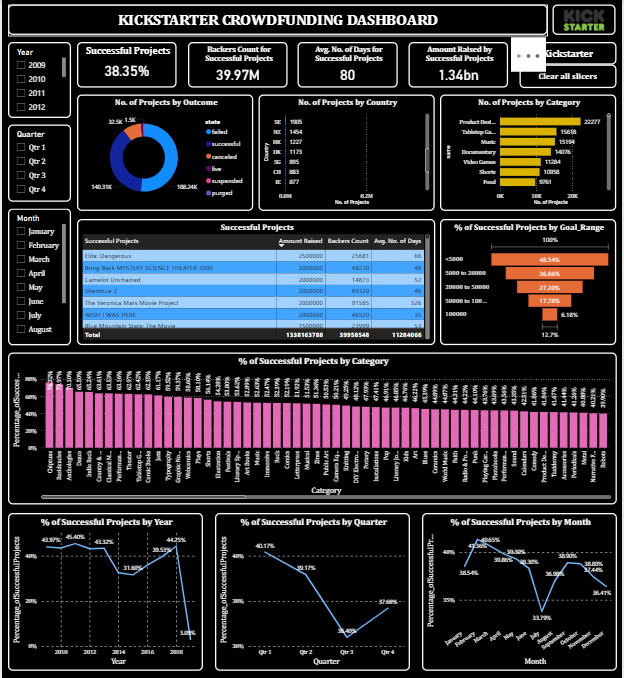

What the dashboard file says about the page in this screenshot:
{"tool":"powerbi","page":{"name":"Dashboard","canvas":[1280,1400],"ordinal":0},"visuals":[{"type":"textbox","box":[11.4,10,1112.9,62.9],"z":0},{"type":"slicer","fields":{"Values":["Calendar.Date.Variation.Date Hierarchy.Year"]},"box":[11.4,86.9,129.7,156.8],"z":1000},{"type":"slicer","fields":{"Values":["Calendar.Date.Variation.Date Hierarchy.Quarter"]},"box":[11.4,256.6,129.7,159.6],"z":2000},{"type":"card","title":"Avg. No. of Days for Successful Projects","fields":{"Values":["Avg(Project.No_Days_for_completion)"]},"box":[608.6,86.9,206.7,94.1],"z":3000},{"type":"card","title":"Backers Count for Successful Projects","fields":{"Values":["Sum(Project.backers_count)"]},"box":[382,86.9,205.3,94.1],"z":4000},{"type":"card","title":"Amount Raised by Successful Projects","fields":{"Values":["Sum(Project.Static usd)"]},"box":[838.1,86.9,205.3,94.1],"z":5000},{"type":"donutChart","title":"No. of Projects by Outcome","fields":{"Category":["Project.state"],"Y":["CountNonNull(Project.id)"]},"box":[153.3,195,363.3,240],"z":6000},{"type":"clusteredBarChart","title":"No. of Projects by Country","fields":{"Y":["CountNonNull(Project.id)"],"Category":["Project.country"]},"box":[528.3,195,363.3,240],"z":7000},{"type":"clusteredBarChart","title":"No. of Projects by Category","fields":{"Y":["CountNonNull(Project.id)"],"Category":["Category.name"]},"box":[903.3,195,363.3,240],"z":8000},{"type":"slicer","fields":{"Values":["Calendar.Date.Variation.Date Hierarchy.Month"]},"box":[11.7,430,130,281.7],"z":9000},{"type":"card","title":"Successful Projects","fields":{"Values":["Project.Percentage_ofSuccessfulProjects"]},"box":[153.9,86.9,205.3,94.1],"z":10000},{"type":"actionButton","box":[1066.7,133.3,200,48.3],"z":11000},{"type":"tableEx","title":"Successful Projects","fields":{"Values":["Project.name","Sum(Project.Static usd)","Sum(Project.backers_count)","Sum(Project.No_Days_for_completion)"]},"box":[153.3,451.7,738.3,260],"z":12000},{"type":"funnel","title":"% of Successful Projects by Goal_Range","fields":{"Category":["Project.Goal_Range"],"Y":["Project.Percentage_ofSuccessfulProjects"]},"box":[903.3,451.7,363.3,260],"z":13000},{"type":"columnChart","title":"% of Successful Projects by Category","fields":{"Category":["Category.name"],"Y":["Project.Percentage_ofSuccessfulProjects"]},"box":[11.7,728.3,1255,313.3],"z":14000},{"type":"lineChart","title":"% of Successful Projects by Year","fields":{"Category":["Calendar.Date.Variation.Date Hierarchy.Year"],"Y":["Project.Percentage_ofSuccessfulProjects"]},"box":[11.7,1058.3,401.7,325],"z":15000},{"type":"lineChart","title":"% of Successful Projects by Quarter","fields":{"Y":["Project.Percentage_ofSuccessfulProjects"],"Category":["Calendar.Date.Variation.Date Hierarchy.Quarter"]},"box":[438.3,1058.3,401.7,325],"z":16000},{"type":"lineChart","title":"% of Successful Projects by Month","fields":{"Y":["Project.Percentage_ofSuccessfulProjects"],"Category":["Calendar.Date.Variation.Date Hierarchy.Month"]},"box":[865,1058.3,401.7,325],"z":17000},{"type":"shape","box":[1066.7,86.7,200,46.7],"z":18000},{"type":"image","box":[1135.7,10,130,62.9],"z":19000}]}

Visuals, with their boxes in screenshot pixels (x1, y1, x2, y2), scaled from the page's 1280x1400 canvas onto the 624x678 screenshot:
textbox: l=6, t=5, r=548, b=35
slicer - Calendar.Date.Variation.Date Hierarchy.Year: l=6, t=42, r=69, b=118
slicer - Calendar.Date.Variation.Date Hierarchy.Quarter: l=6, t=124, r=69, b=202
"Avg. No. of Days for Successful Projects" card: l=297, t=42, r=397, b=88
"Backers Count for Successful Projects" card: l=186, t=42, r=286, b=88
"Amount Raised by Successful Projects" card: l=409, t=42, r=509, b=88
"No. of Projects by Outcome" donutChart: l=75, t=94, r=252, b=211
"No. of Projects by Country" clusteredBarChart: l=258, t=94, r=435, b=211
"No. of Projects by Category" clusteredBarChart: l=440, t=94, r=617, b=211
slicer - Calendar.Date.Variation.Date Hierarchy.Month: l=6, t=208, r=69, b=345
"Successful Projects" card: l=75, t=42, r=175, b=88
actionButton: l=520, t=65, r=618, b=88
"Successful Projects" tableEx: l=75, t=219, r=435, b=345
"% of Successful Projects by Goal_Range" funnel: l=440, t=219, r=617, b=345
"% of Successful Projects by Category" columnChart: l=6, t=353, r=618, b=504
"% of Successful Projects by Year" lineChart: l=6, t=513, r=202, b=670
"% of Successful Projects by Quarter" lineChart: l=214, t=513, r=410, b=670
"% of Successful Projects by Month" lineChart: l=422, t=513, r=618, b=670
shape: l=520, t=42, r=618, b=65
image: l=554, t=5, r=617, b=35
